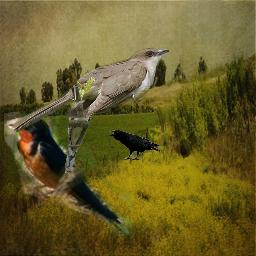Crow: (109, 130, 161, 160)
Cuckoo: (10, 47, 169, 132), (65, 95, 97, 173)
Swallow: (4, 111, 132, 236)
